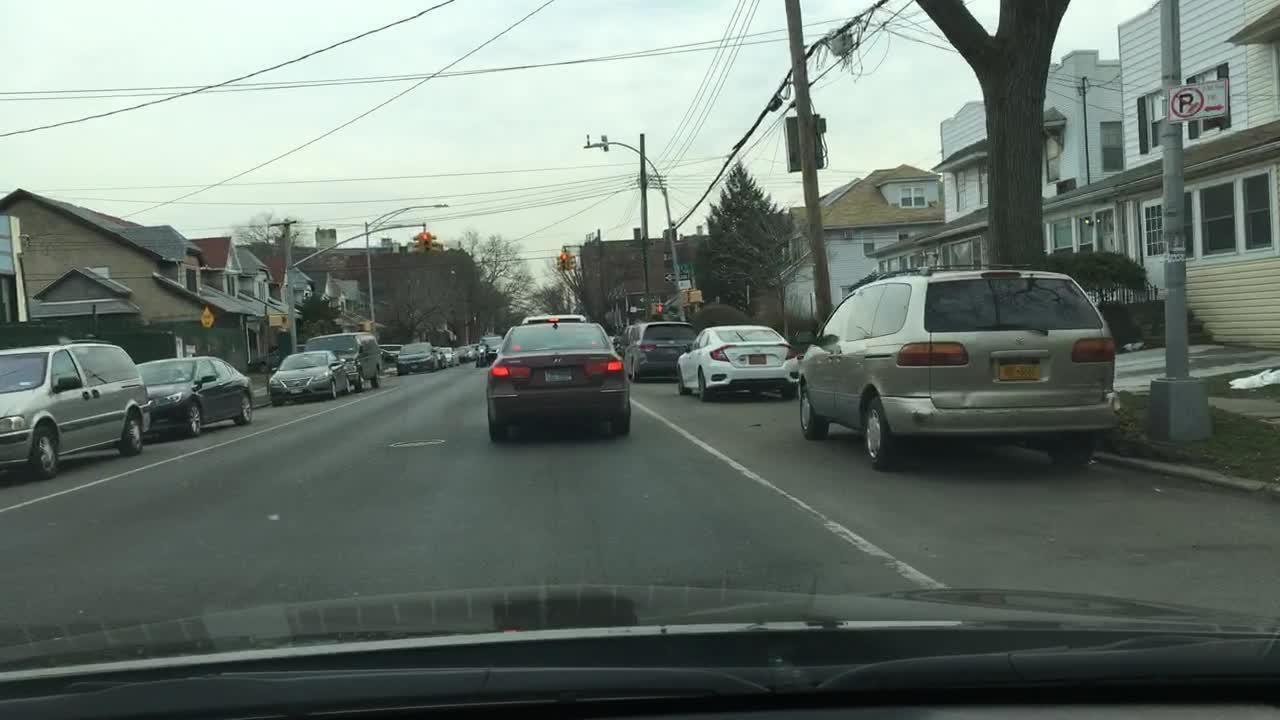Hyundai: (546, 355, 566, 366)
